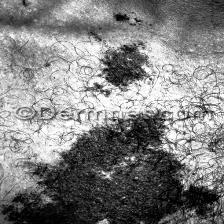Benign Marking or Mole: (25, 134, 212, 224), (97, 40, 149, 92)
